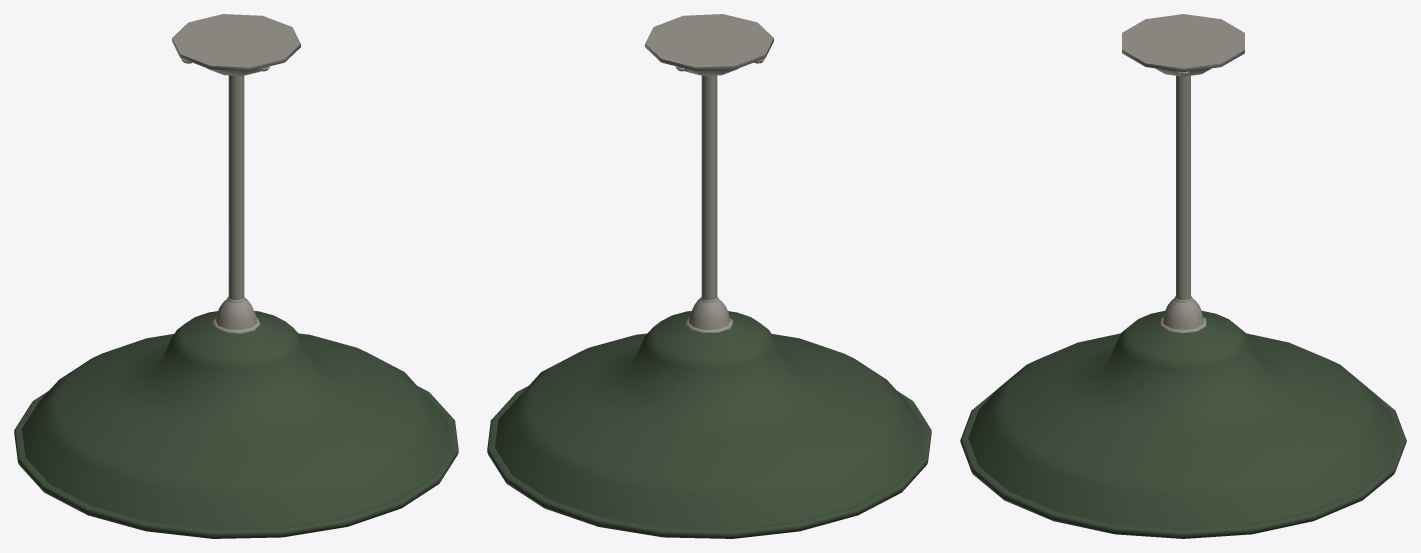
Rendered from ceiling_light 1.fbx.
3 renders of one model, left to right at view 1: azimuth 30°, elevation 25°; view 2: azimuth 150°, elevation 25°; view 3: azimuth 270°, elevation 25°, orthographic.
Parts seen in each view (by area): view 1: ceiling_light; view 2: ceiling_light; view 3: ceiling_light.
Boxes of the visible parts, left/top/right/bottom form: ceiling_light: left=14, top=14, right=458, bottom=538; ceiling_light: left=487, top=14, right=931, bottom=538; ceiling_light: left=960, top=14, right=1406, bottom=538.
Size of the model in its own units: 1.32 by 1.45 by 1.32.
